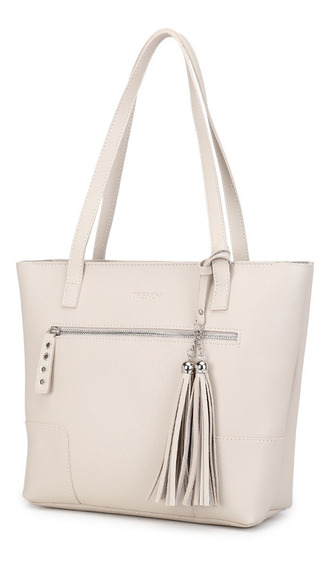cartera: (12, 27, 316, 535)
